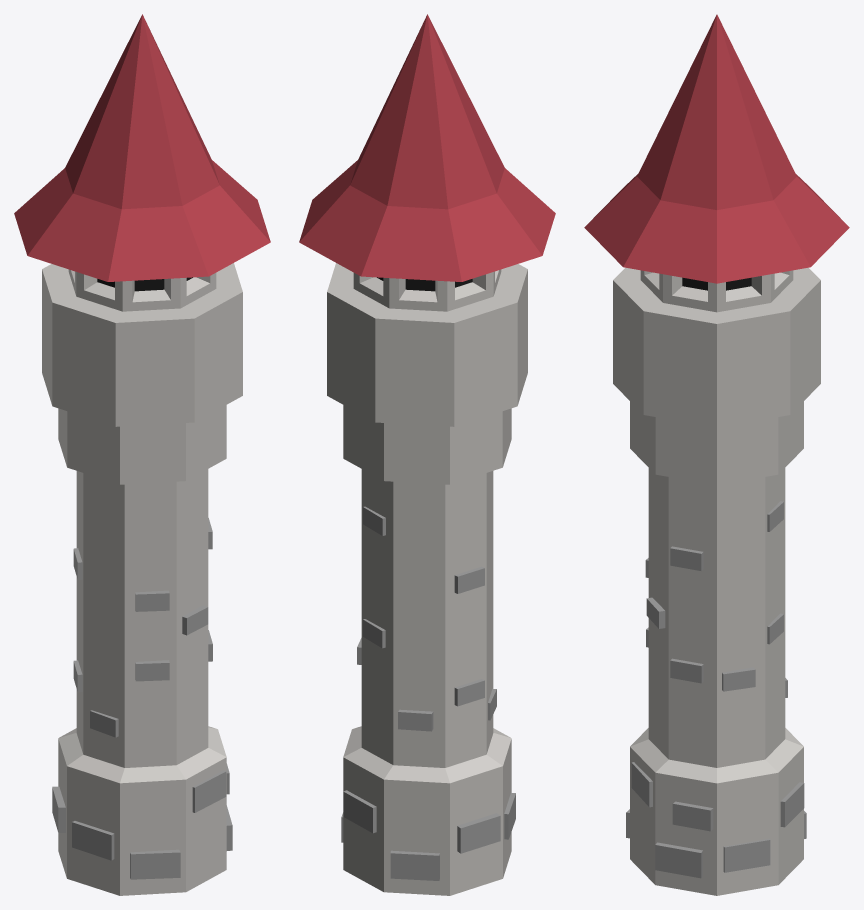
File: quaternius-modular-medieval-buildings-pointytower.glb
3 renders of one model, left to right at view 1: azimuth 30°, elevation 25°; view 2: azimuth 150°, elevation 25°; view 3: azimuth 270°, elevation 25°, orthographic.
Visible parts, largest first — view 1: PointyTower; view 2: PointyTower; view 3: PointyTower.
Part boxes in pixels (x1,y1,x2,y2): PointyTower: (14,14,270,895); PointyTower: (299,14,555,895); PointyTower: (584,14,849,895).
Size of the model in its own units: 1.53 by 5.37 by 1.53.
